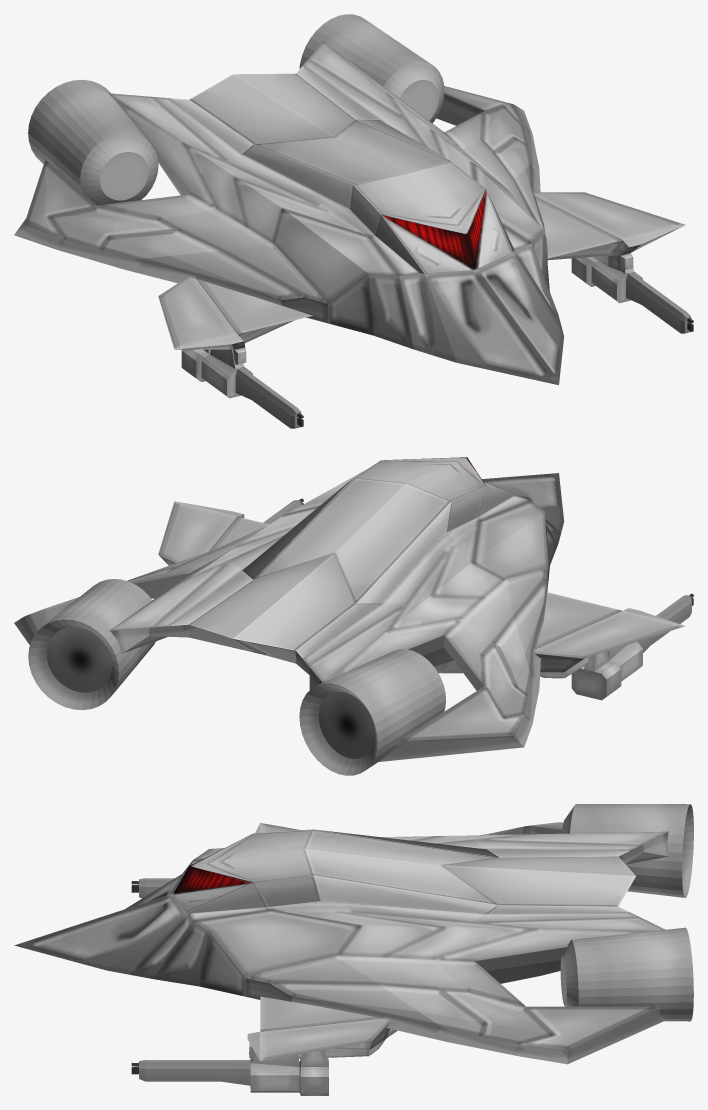
The model's file is enemy shooter finished textured.fbx.
The picture shows the model from 3 angles, top to bottom: view 1: azimuth 30°, elevation 25°; view 2: azimuth 150°, elevation 25°; view 3: azimuth 270°, elevation 25°; orthographic projection. The views are drawn at different scales.
Visible parts, largest first — view 1: Cube, Cube.004, Cylinder, Cube.001, Cylinder.002; view 2: Cube, Cylinder, Cube.004, Cylinder.002, Cube.001; view 3: Cube, Cylinder.002, Cube.004, Cylinder, Cube.001.
Boxes of the visible parts, <box> form: Cube: <box>14,41,564,384</box>; Cube.004: <box>158,192,685,364</box>; Cylinder: <box>28,79,158,205</box>; Cube.001: <box>181,256,693,428</box>; Cylinder.002: <box>299,14,444,123</box>; Cube: <box>14,457,564,761</box>; Cylinder: <box>299,649,445,775</box>; Cube.004: <box>158,501,685,678</box>; Cylinder.002: <box>28,579,155,710</box>; Cube.001: <box>263,498,693,700</box>; Cube: <box>14,822,669,1064</box>; Cylinder.002: <box>560,927,693,1021</box>; Cube.004: <box>247,822,397,1060</box>; Cylinder: <box>561,804,693,897</box>; Cube.001: <box>131,878,328,1095</box>.
Size of the model in its own units: 654 by 192 by 788.
